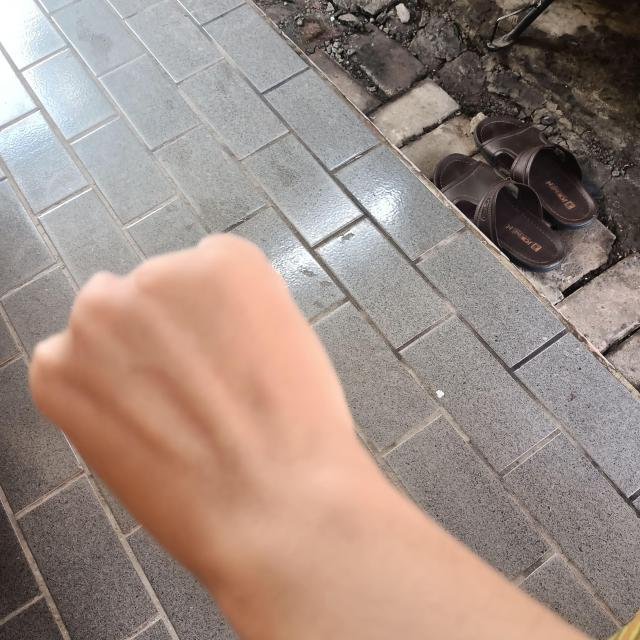fist: (16, 219, 369, 603)
